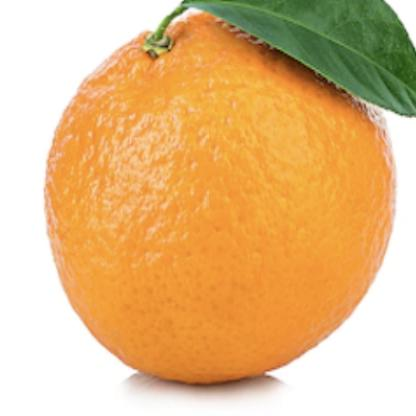fresh: (48, 9, 395, 383)
